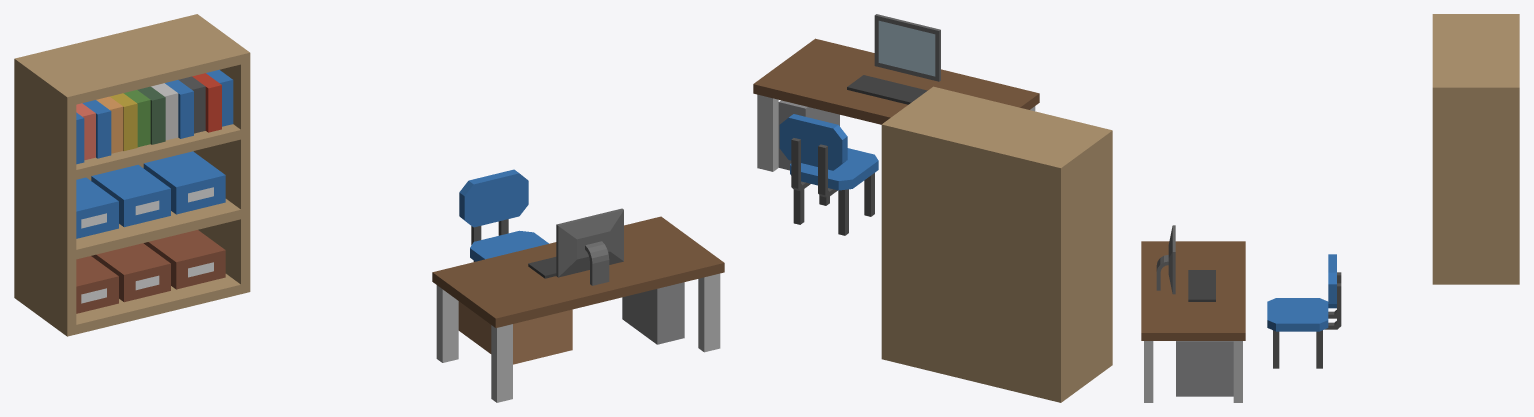
Rendered from Office.fbx.
The picture shows the model from 3 angles, left to right: view 1: azimuth 30°, elevation 25°; view 2: azimuth 150°, elevation 25°; view 3: azimuth 270°, elevation 25°; orthographic projection. The views are drawn at different scales.
Parts seen in each view (by area): view 1: Cabinet, Desk, Chair; view 2: Cabinet, Desk, Chair; view 3: Cabinet, Desk, Chair.
Part boxes in pixels (left/top/right/bottom): Cabinet: left=14, top=14, right=250, bottom=336; Desk: left=432, top=208, right=724, bottom=402; Chair: left=459, top=169, right=548, bottom=261; Cabinet: left=881, top=86, right=1112, bottom=402; Desk: left=753, top=14, right=1039, bottom=171; Chair: left=779, top=114, right=878, bottom=235; Cabinet: left=1432, top=14, right=1519, bottom=284; Desk: left=1141, top=225, right=1245, bottom=402; Chair: left=1267, top=254, right=1341, bottom=368.
Bounding box in the file's own units: 5.25 × 2.5 × 4.35.
